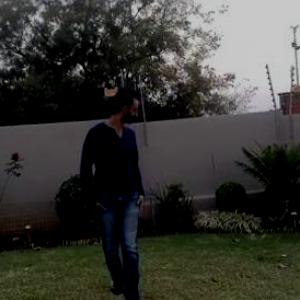follow: (75, 81, 152, 299)
